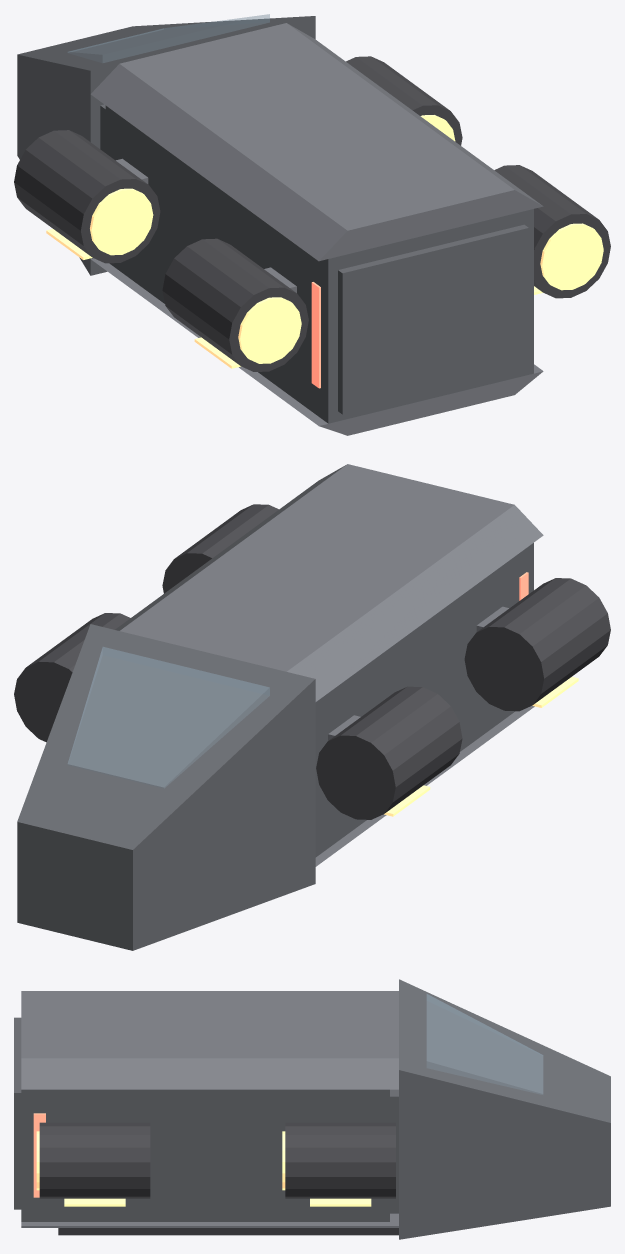
Rendered from ship_XS_DARTER.glb.
3 renders of one model, top to bottom at view 1: azimuth 30°, elevation 25°; view 2: azimuth 150°, elevation 25°; view 3: azimuth 270°, elevation 25°, orthographic. The views are drawn at different scales.
Parts seen in each view (by area): view 1: XS_DARTER_Armor, XS_DARTER_Hull-col, XS_DARTER_Ramp-col, XS_DARTER_Engines, XS_DARTER_EngineGlow, XS_DARTER_Glass-col, XS_DARTER_Lights; view 2: XS_DARTER_Hull-col, XS_DARTER_Armor, XS_DARTER_Engines, XS_DARTER_Glass-col, XS_DARTER_EngineGlow; view 3: XS_DARTER_Hull-col, XS_DARTER_Armor, XS_DARTER_Engines, XS_DARTER_Glass-col, XS_DARTER_Trim, XS_DARTER_EngineGlow, XS_DARTER_Ramp-col, XS_DARTER_Lights.
Boxes of the visible parts, x1,y1,x2,y2 form: XS_DARTER_Armor: [90, 23, 543, 435]; XS_DARTER_Hull-col: [17, 16, 533, 423]; XS_DARTER_Ramp-col: [338, 224, 528, 414]; XS_DARTER_Engines: [14, 56, 610, 371]; XS_DARTER_EngineGlow: [46, 115, 603, 368]; XS_DARTER_Glass-col: [68, 14, 269, 62]; XS_DARTER_Lights: [311, 282, 320, 388]; XS_DARTER_Hull-col: [17, 543, 533, 950]; XS_DARTER_Armor: [115, 464, 543, 866]; XS_DARTER_Engines: [14, 504, 610, 819]; XS_DARTER_Glass-col: [68, 647, 269, 788]; XS_DARTER_EngineGlow: [384, 676, 578, 816]; XS_DARTER_Hull-col: [21, 979, 610, 1239]; XS_DARTER_Armor: [21, 991, 398, 1227]; XS_DARTER_Engines: [39, 1122, 395, 1198]; XS_DARTER_Glass-col: [427, 994, 542, 1094]; XS_DARTER_Trim: [58, 1228, 398, 1235]; XS_DARTER_EngineGlow: [36, 1131, 371, 1206]; XS_DARTER_Ramp-col: [14, 1017, 21, 1209]; XS_DARTER_Lights: [33, 1113, 45, 1197].
Size of the model in its own units: 5.94 by 3.2 by 9.72.
